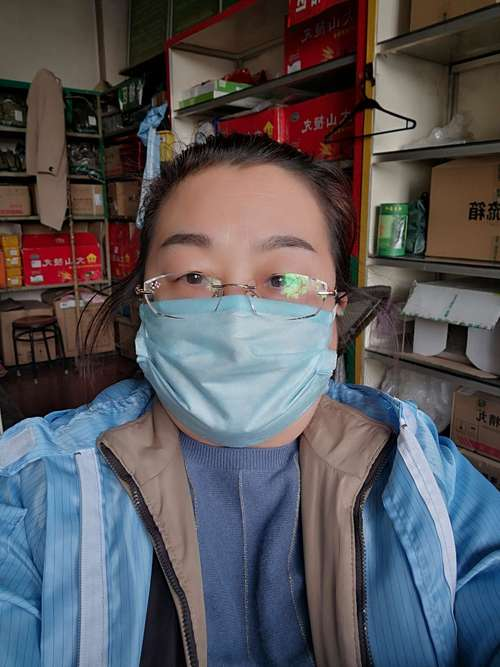mask: (127, 155, 352, 452)
